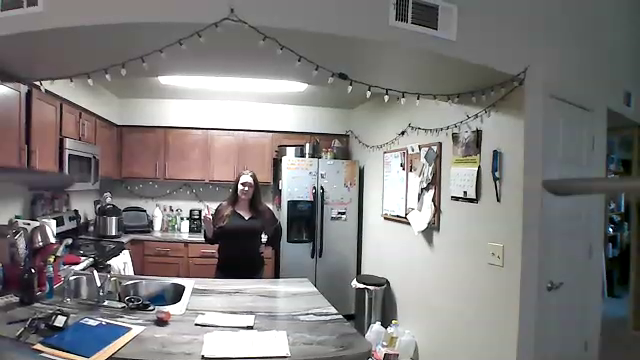up: (200, 204, 215, 228)
